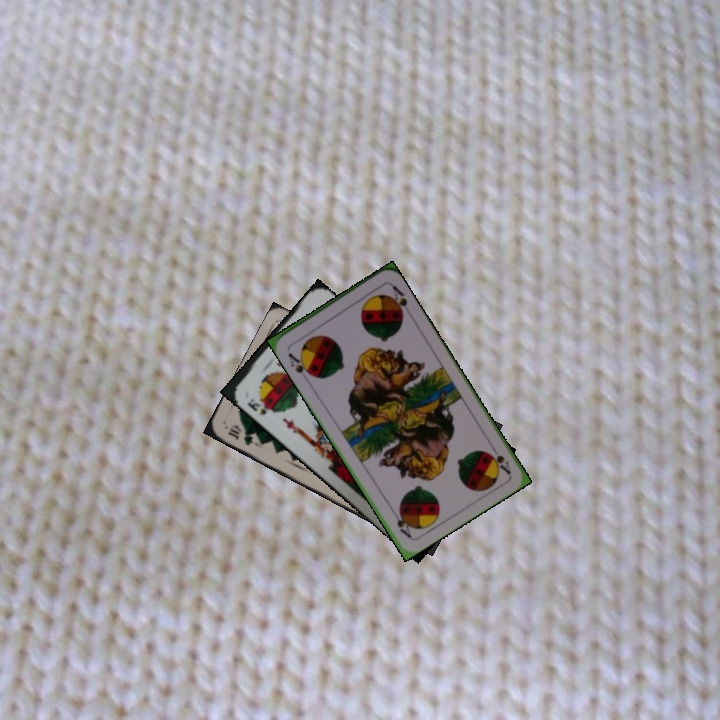G10: (224, 421, 256, 448)
SA: (484, 440, 513, 477), (284, 348, 314, 382)
SK: (243, 394, 276, 418)
